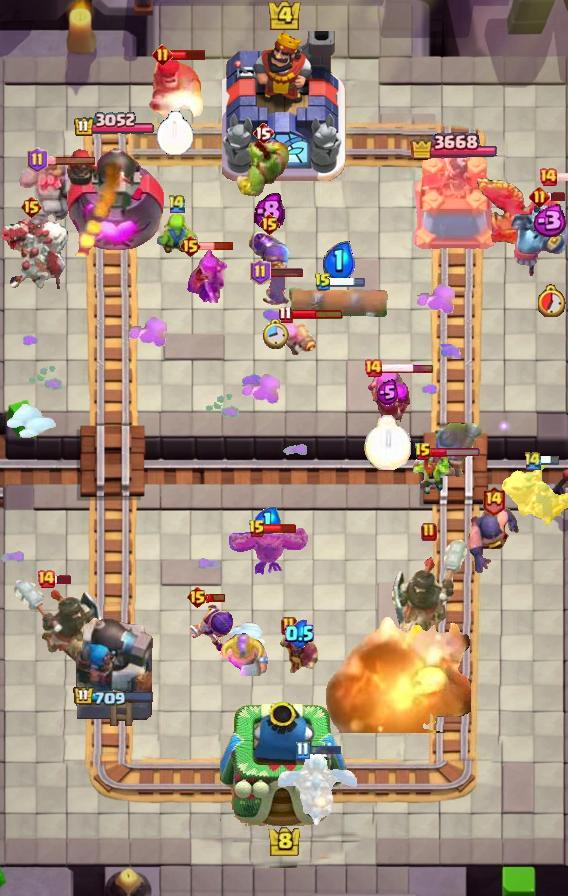barbarian-barrel: (258, 268, 292, 310)
bomb-tower: (432, 420, 484, 480)
bowler: (277, 627, 321, 679)
electro-spirit: (528, 204, 568, 237), (321, 241, 354, 280), (255, 191, 285, 229), (286, 619, 314, 648), (255, 506, 281, 533), (377, 378, 400, 406)
elixir: (365, 415, 412, 470), (156, 112, 194, 157), (538, 283, 566, 316), (262, 319, 289, 350)
elixir-golem-small: (508, 200, 568, 278)
emote: (291, 308, 344, 320), (380, 362, 434, 373), (45, 154, 97, 165), (430, 446, 482, 457), (329, 275, 367, 288), (170, 48, 207, 61), (268, 266, 304, 278), (307, 745, 342, 756), (263, 523, 297, 534), (199, 241, 234, 251), (547, 190, 567, 202), (540, 455, 560, 466), (53, 574, 73, 585), (206, 593, 226, 604), (556, 171, 568, 183)
evolution-symbol: (185, 243, 231, 303)
firecracker-evolution: (248, 229, 290, 272)
flying-machine: (235, 137, 291, 197)
goblin-ball: (186, 600, 234, 654)
goblin-giant: (219, 633, 268, 676)
golden-knight: (227, 527, 309, 577)
inferno-dragon: (12, 576, 108, 678), (387, 536, 471, 652)
king-tower: (222, 31, 346, 181), (220, 702, 348, 827)
mini-pekka: (274, 748, 358, 832), (0, 219, 72, 289), (498, 456, 568, 528)
minion: (286, 287, 390, 321)
monk: (467, 506, 519, 578)
mother-witch: (474, 176, 568, 250)
phoenix-small: (146, 54, 204, 118)
queen-tower: (407, 156, 499, 256)
rascal-girl: (363, 364, 411, 432)
selected: (411, 130, 498, 164), (72, 112, 155, 138), (73, 686, 155, 708)
text: (481, 485, 506, 516), (20, 195, 43, 219), (258, 212, 281, 236), (178, 234, 201, 258), (187, 585, 210, 609), (27, 147, 48, 173), (249, 259, 270, 285), (252, 121, 274, 145), (151, 43, 172, 65), (529, 185, 550, 207), (523, 449, 543, 471), (167, 194, 187, 215), (538, 167, 558, 187), (363, 358, 383, 378), (36, 569, 56, 589), (314, 272, 332, 292), (414, 442, 432, 462), (248, 519, 266, 539), (421, 522, 437, 542), (281, 616, 297, 636), (279, 304, 293, 323), (295, 741, 309, 760)
tombstone: (276, 319, 317, 361)
tower-bar: (63, 138, 164, 256), (71, 611, 157, 731)
valkyrie: (311, 605, 471, 733)
valkyrie-evolution: (16, 163, 82, 229)
zap: (410, 450, 456, 496), (155, 213, 199, 255)
